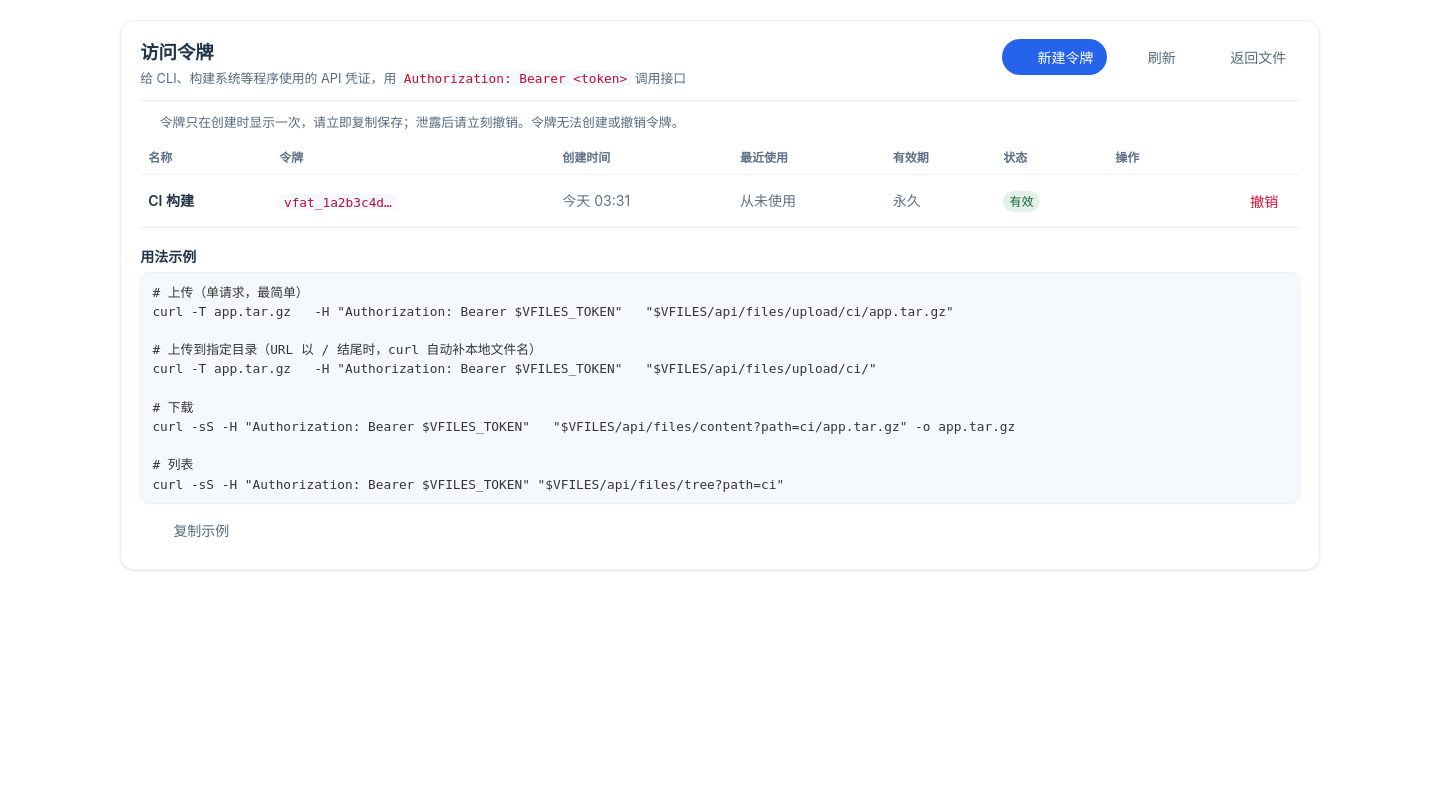
AccessTokens.vue › creates a token, shows the plaintext once and copies it
Expected: the text "CI 构建" is shown, left=140, top=174, right=271, bottom=227
Click the button "新建令牌" at (1055, 57), box left=1002, top=39, right=1107, bottom=75
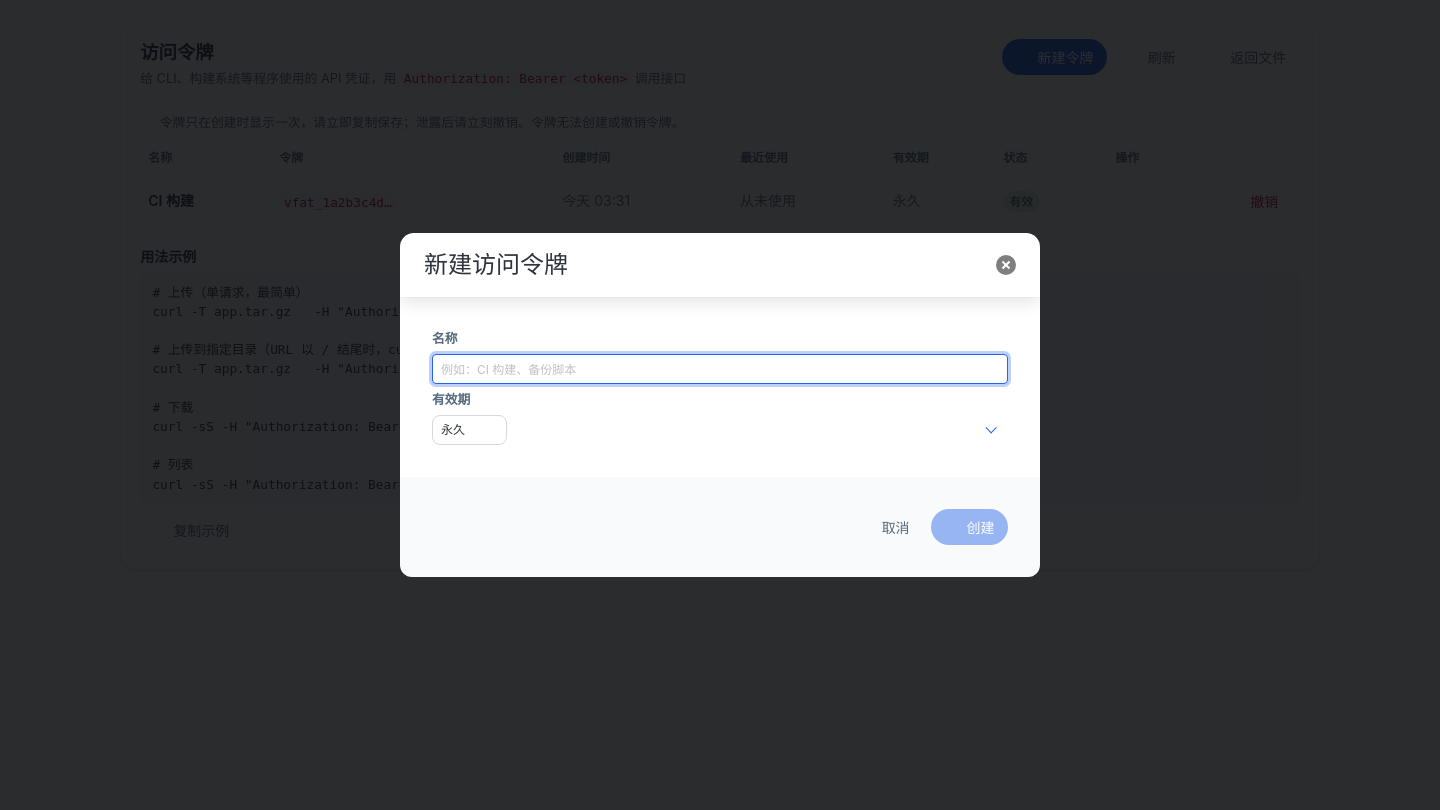
Type "备份脚本" into the field with id "token-name" at (720, 369), box left=432, top=354, right=1008, bottom=384
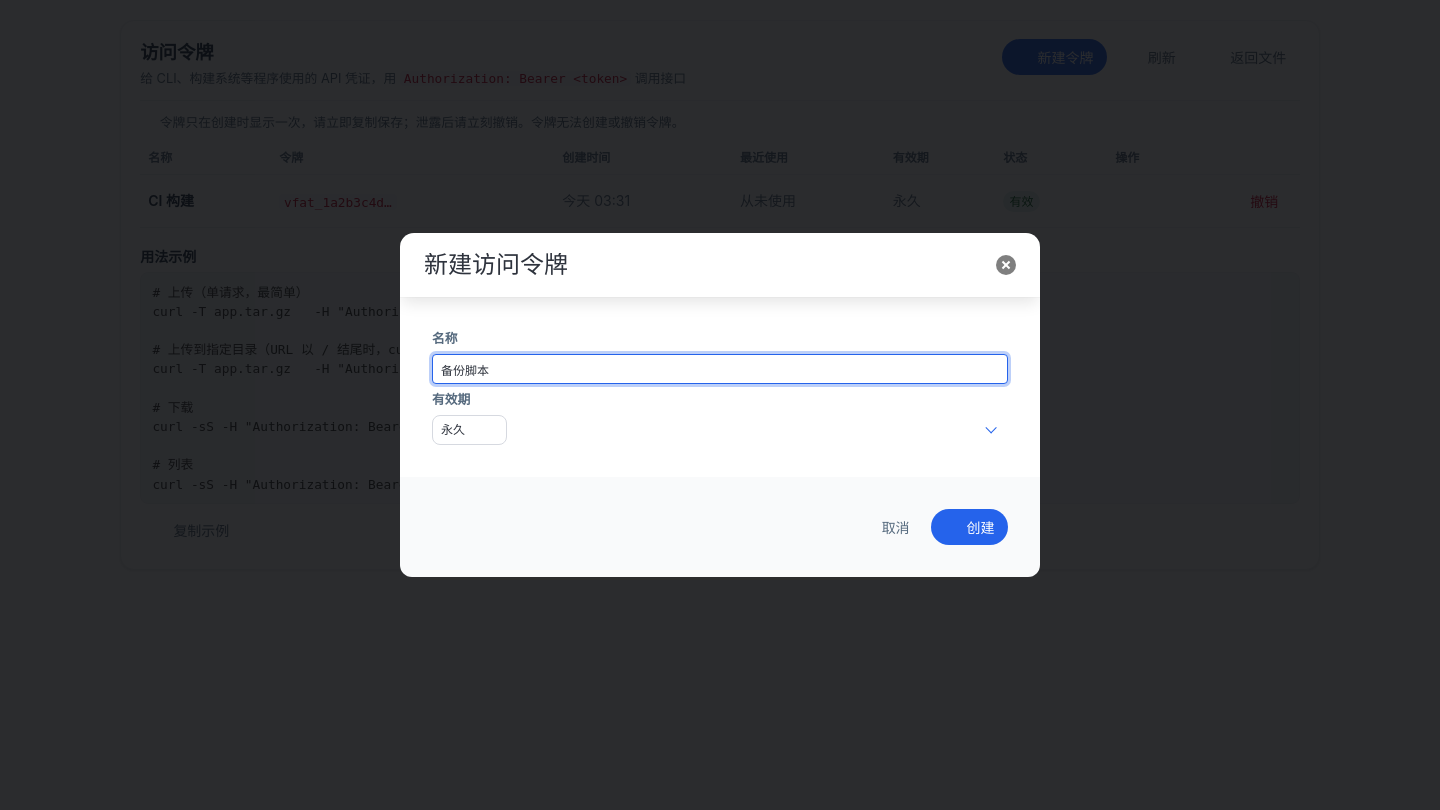
Click the button "创建" at (970, 527), box left=931, top=509, right=1008, bottom=545
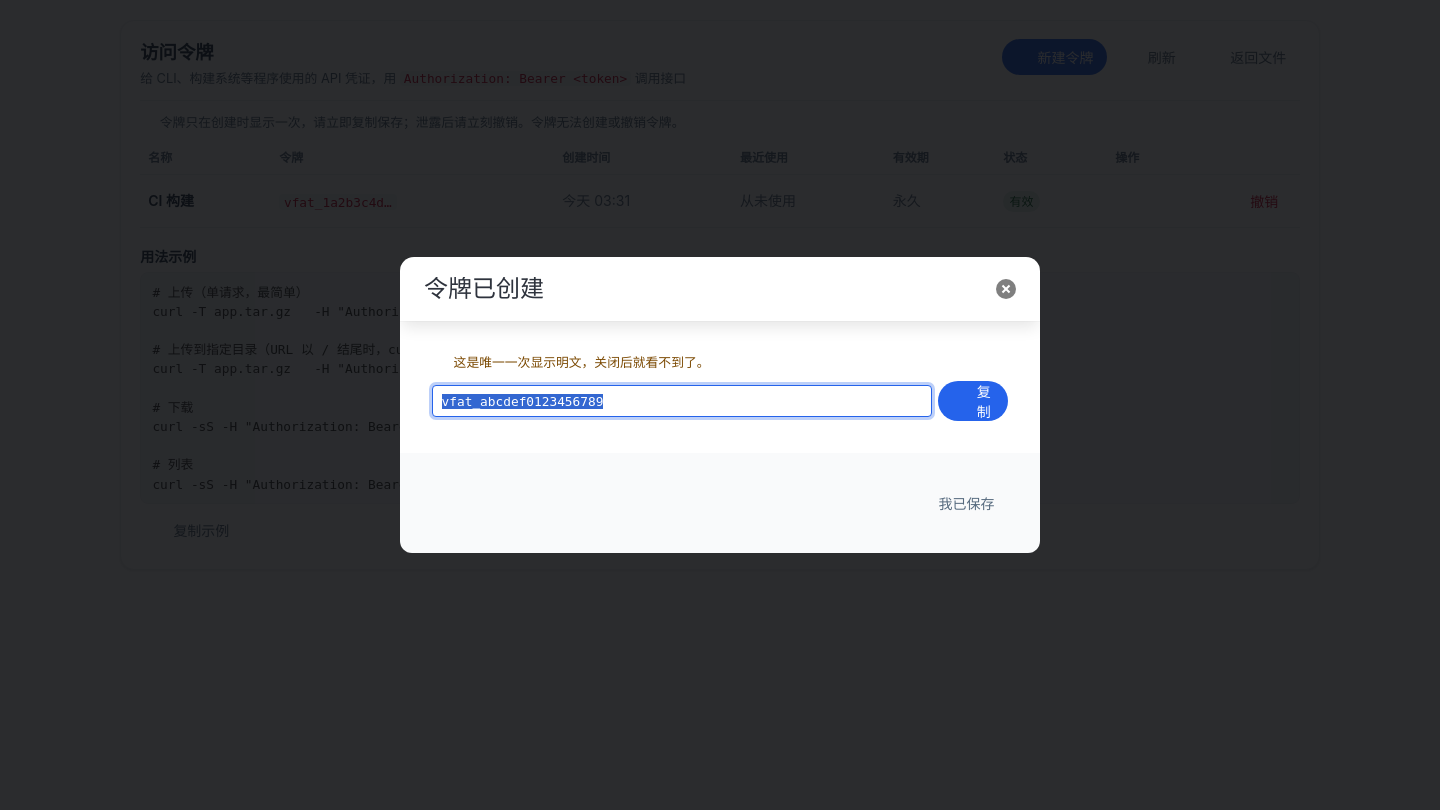
Expected: the field with class "tokens-created-input" holds "vfat_abcdef0123456789", left=432, top=385, right=932, bottom=417
Click the button "复制" at (973, 401), box left=938, top=381, right=1008, bottom=421
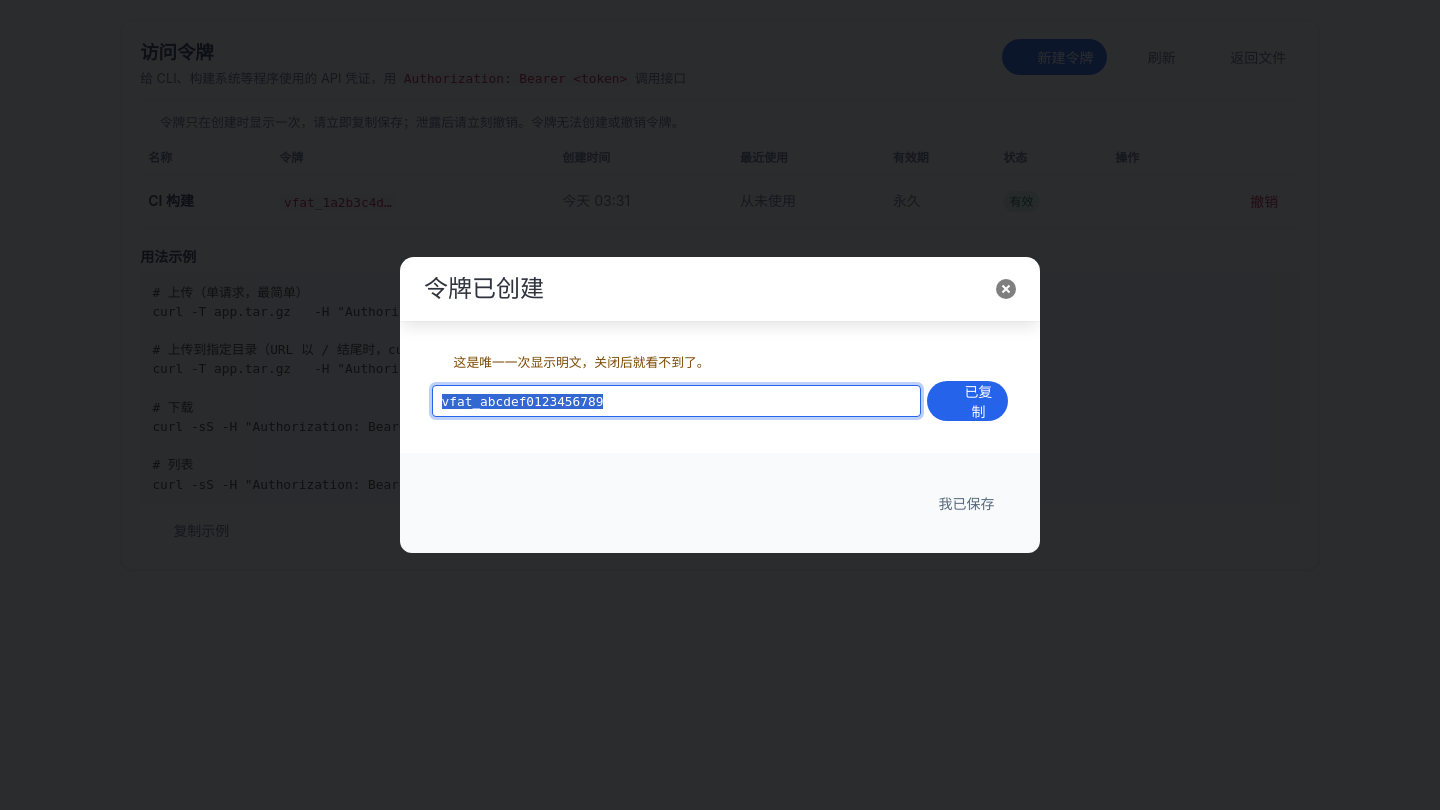
Expected: the text "已复制" is shown, left=962, top=381, right=994, bottom=421
关闭后对话框不再激活（Modal 的插槽内容常驻，用 is-active 判断可见性）
Click the button "我已保存" at (966, 503), box left=925, top=485, right=1008, bottom=521
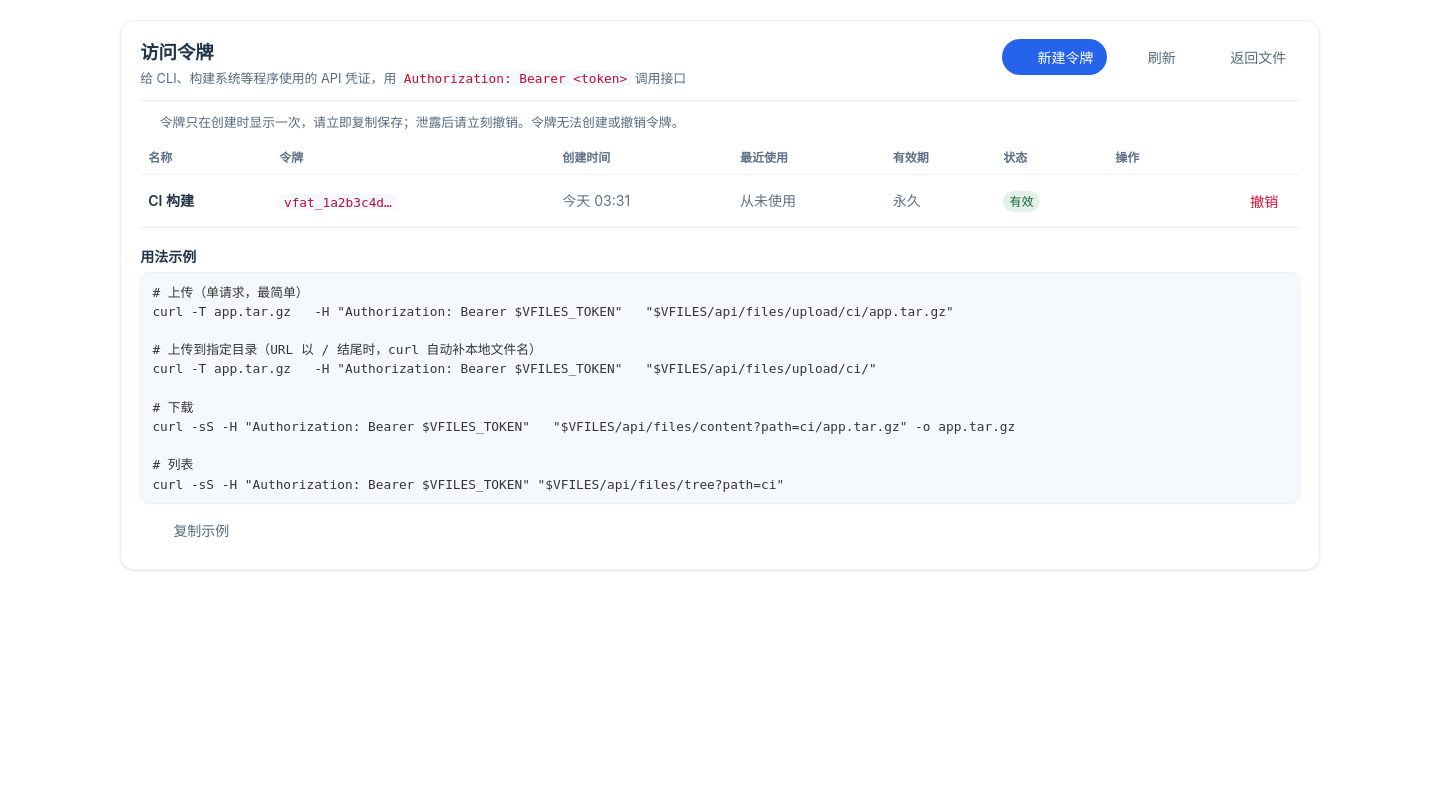
Expected: the text "令牌已创建 这是唯一一次显示明文，关闭后就看不到了。 已复制 我已保存" is gone
